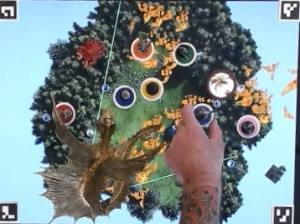blue: (114, 83, 137, 109)
orange: (129, 34, 156, 62)
pink: (237, 111, 263, 139)
red: (51, 99, 78, 123)
violet: (191, 100, 215, 128)
yellow: (140, 75, 166, 101)
